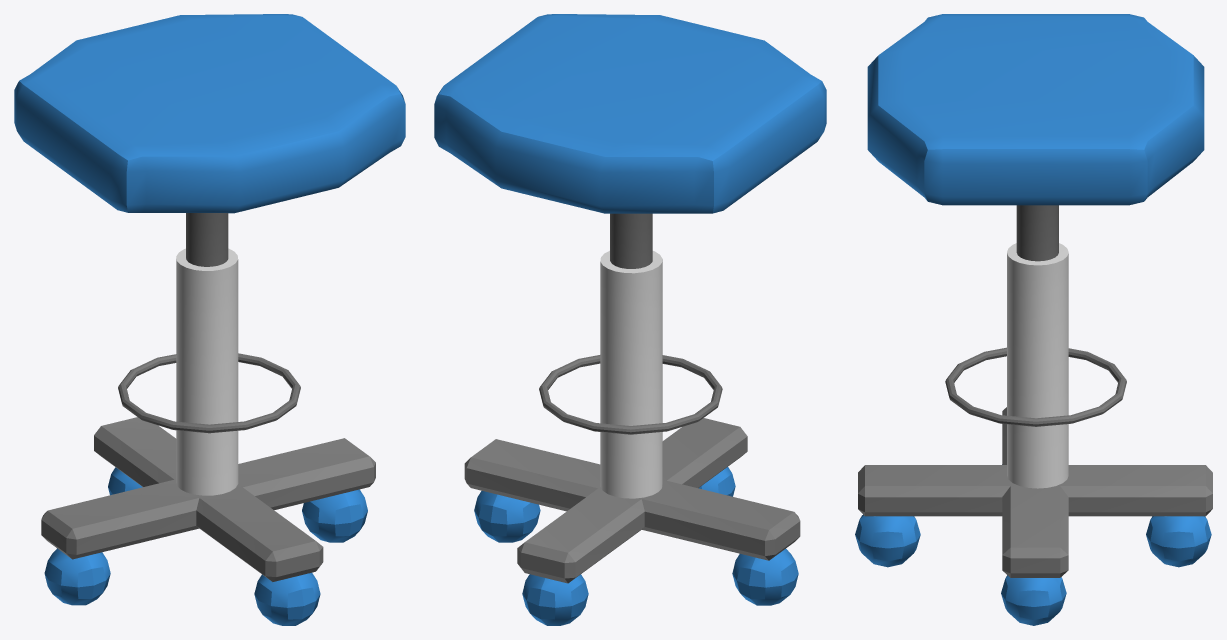
Rendered from Safe_Chair.fbx.
3 views of the same model, side by side, from view 1: azimuth 30°, elevation 25°; view 2: azimuth 150°, elevation 25°; view 3: azimuth 270°, elevation 25° (orthographic).
Visible parts, largest first — view 1: Safe_Chair; view 2: Safe_Chair; view 3: Safe_Chair.
Part boxes in pixels (box(x1,y1,x2,y2)): Safe_Chair: box(14, 14, 405, 625); Safe_Chair: box(434, 14, 826, 625); Safe_Chair: box(855, 14, 1212, 625).
Size of the model in its own units: 21.3 by 31.6 by 21.09.
